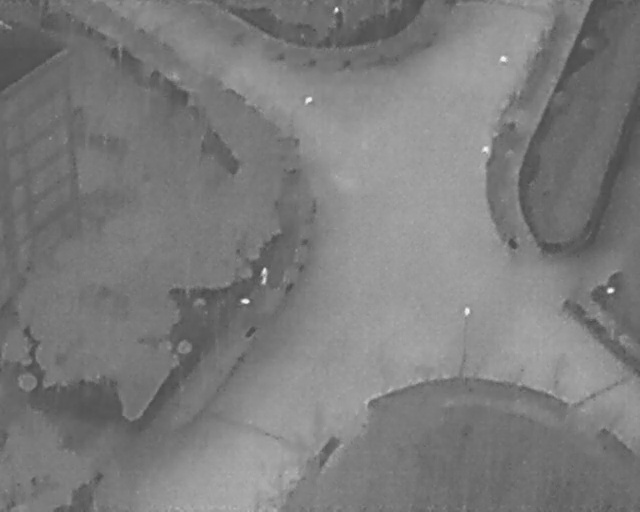Person: (260, 266, 268, 284)
